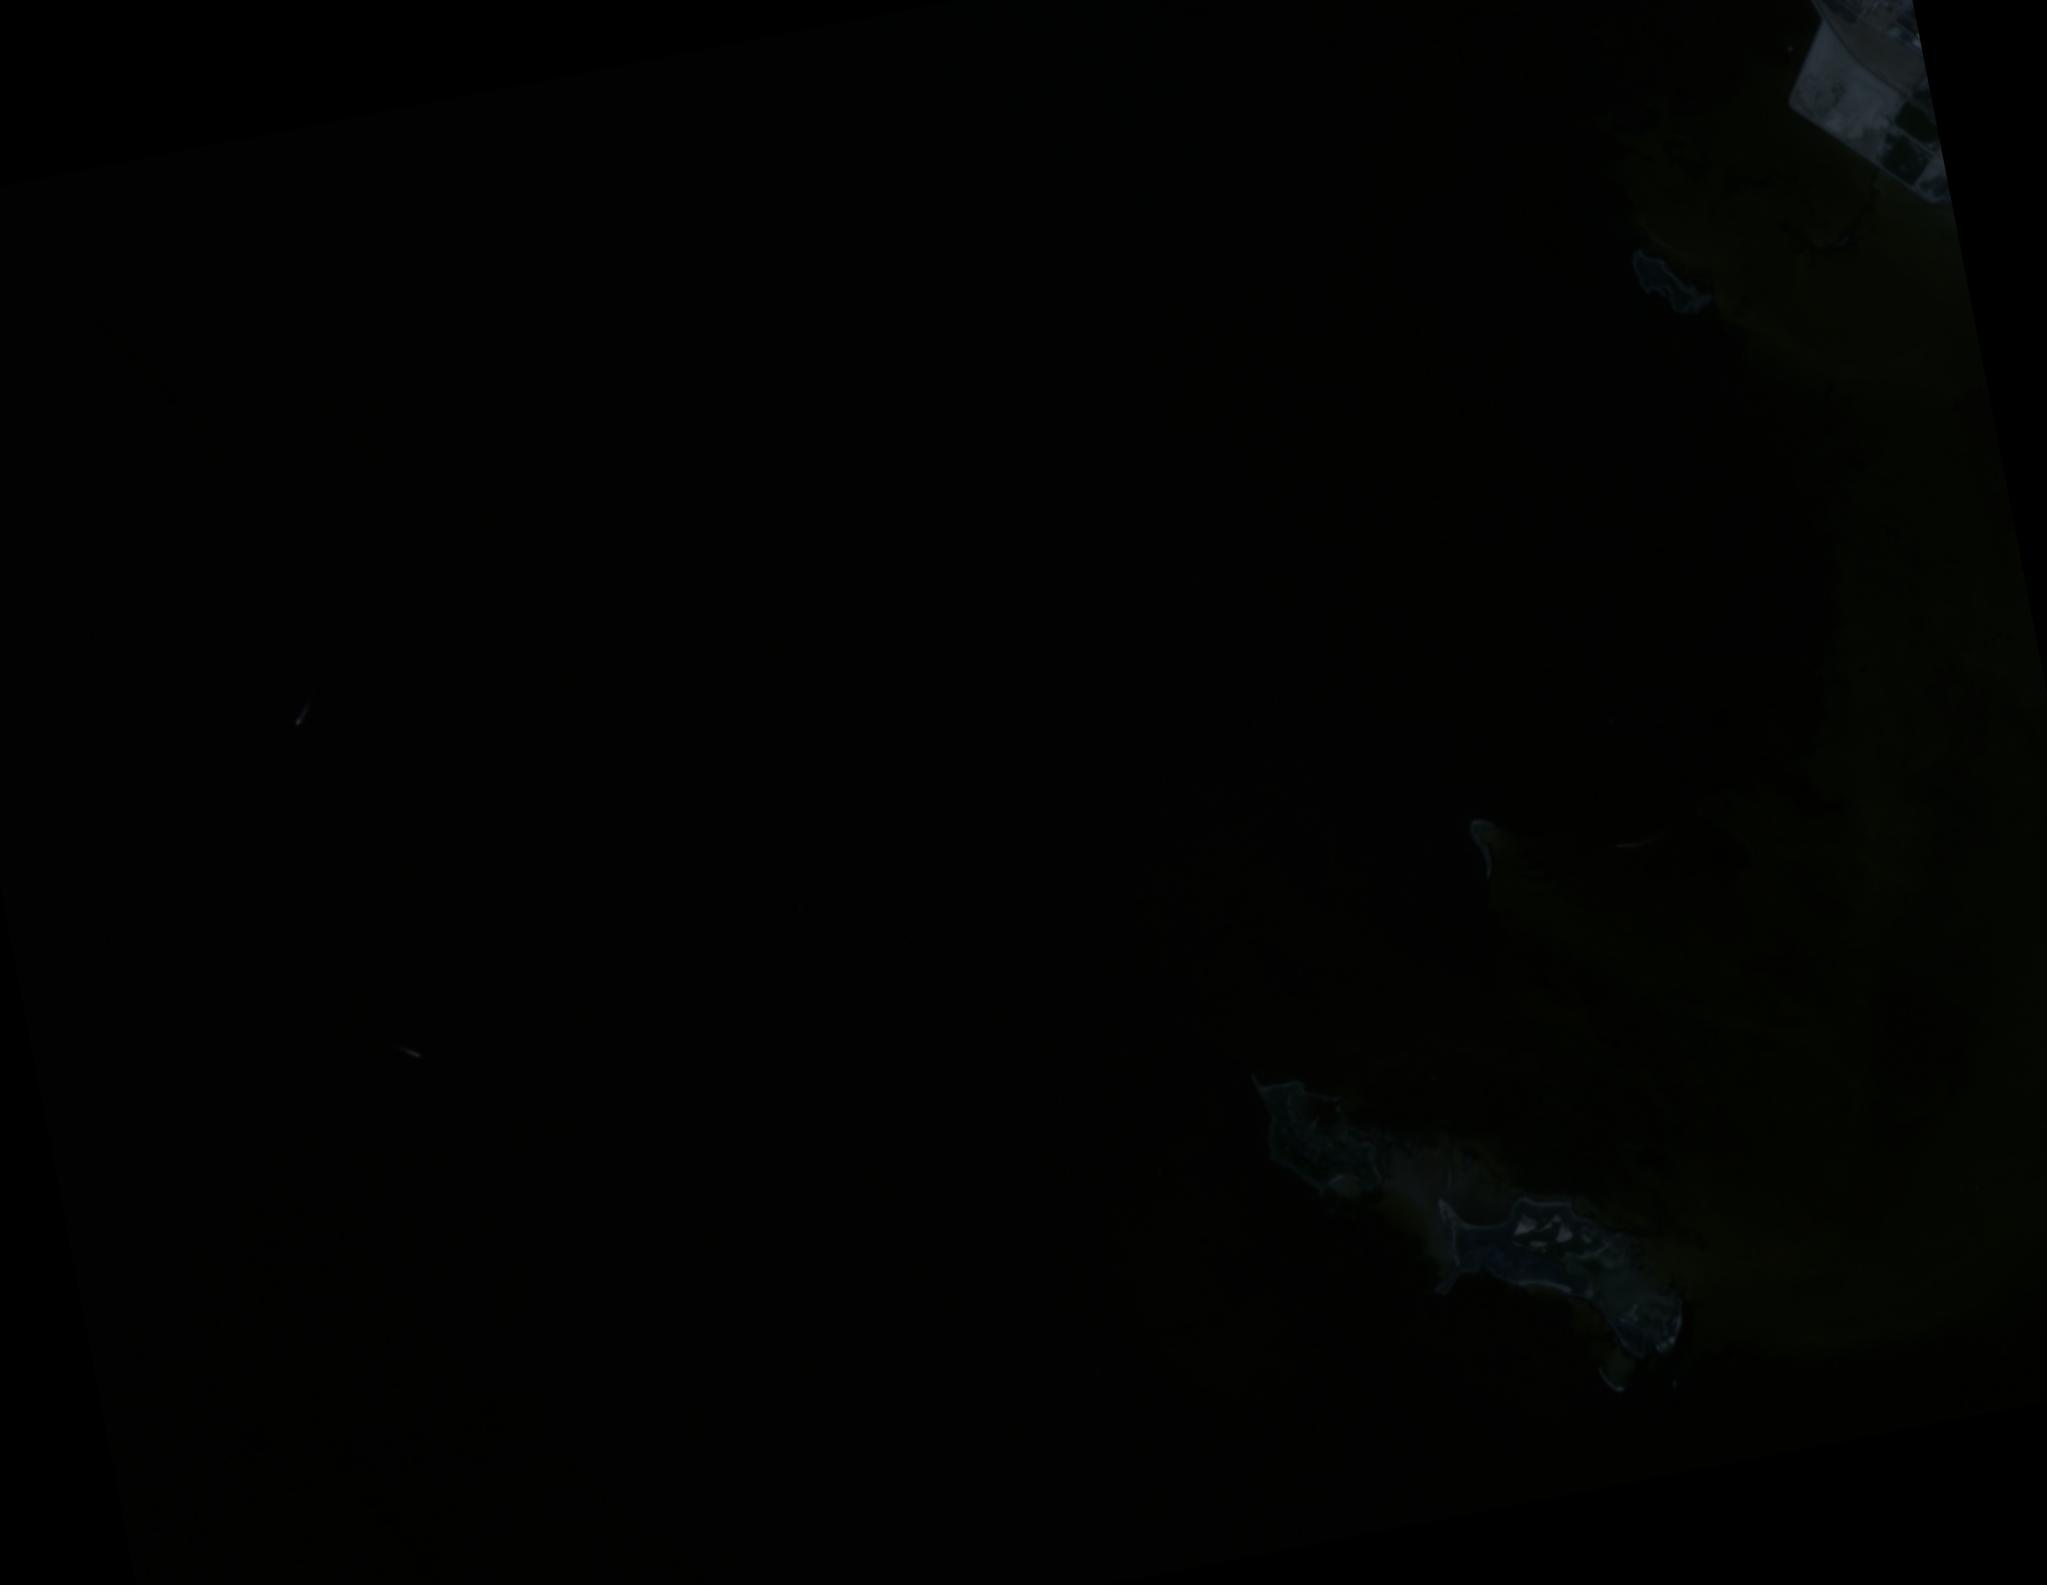ship: (1620, 837, 1640, 847), (294, 704, 307, 718), (410, 1048, 419, 1057), (400, 1043, 410, 1050), (1612, 841, 1620, 847), (294, 718, 301, 723)
